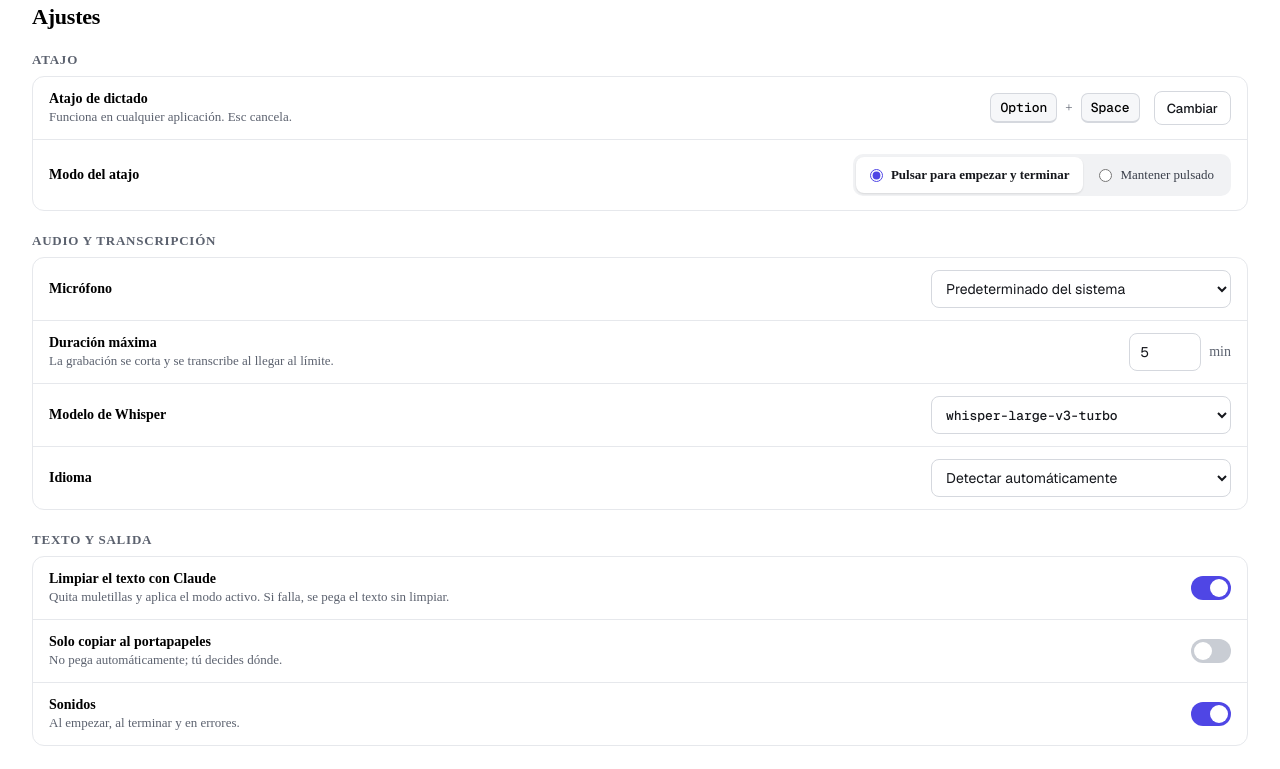
Test: Settings › muestra el error del backend al guardar
This screenshot has width=1280, height=769.
Step 1. Click the switch labelled "Sonidos Al empezar, al terminar y en errores." → (72, 704), box top-left (33, 682), bottom-right (1247, 745)
(page scrolled)
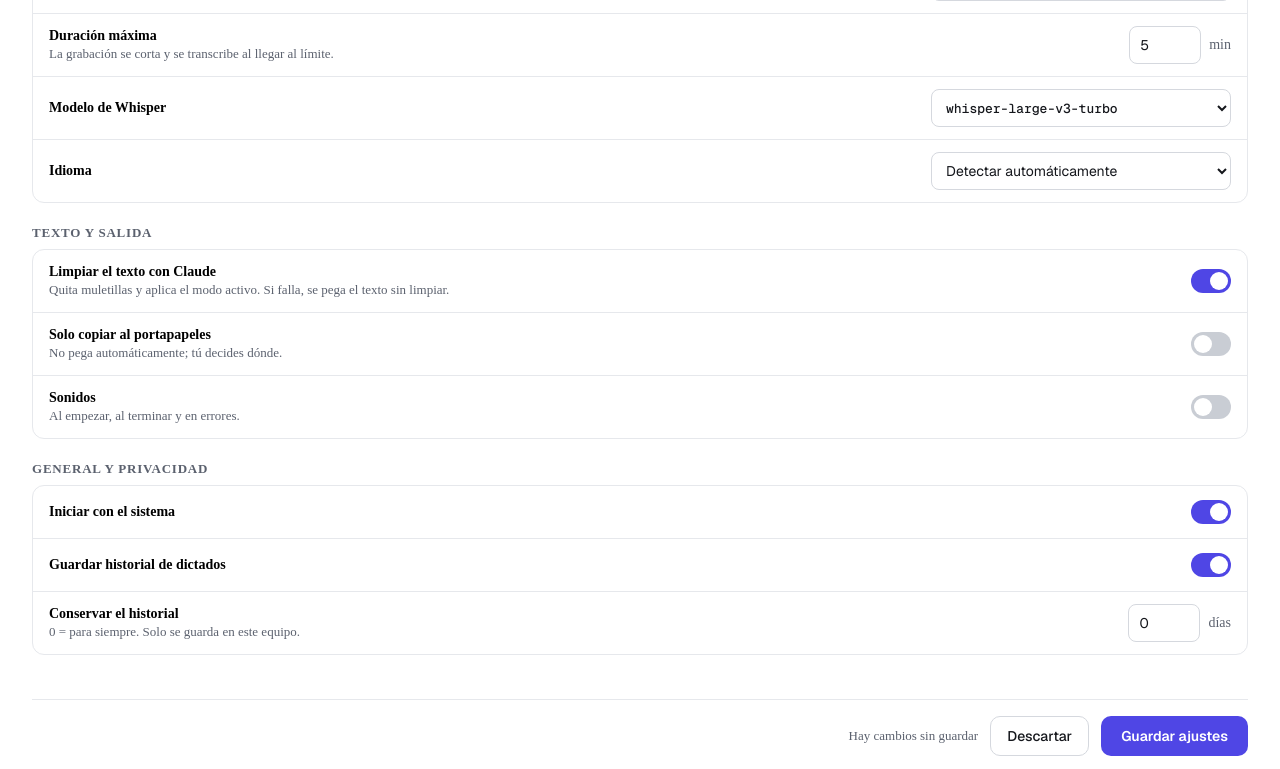
Step 2. Click the button "Guardar ajustes" → (1175, 736), box top-left (1101, 716), bottom-right (1248, 756)
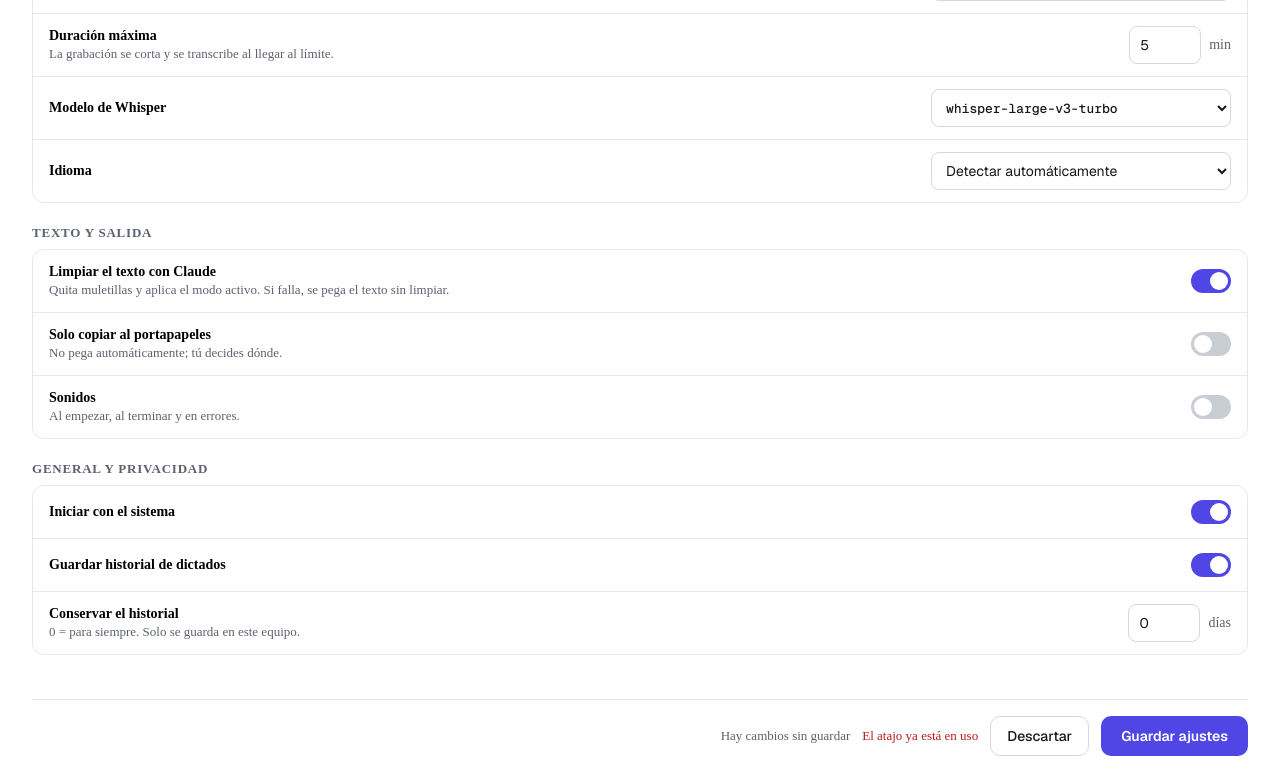
Now the message reads "El atajo ya está en uso", box top-left (862, 728), bottom-right (978, 743)
